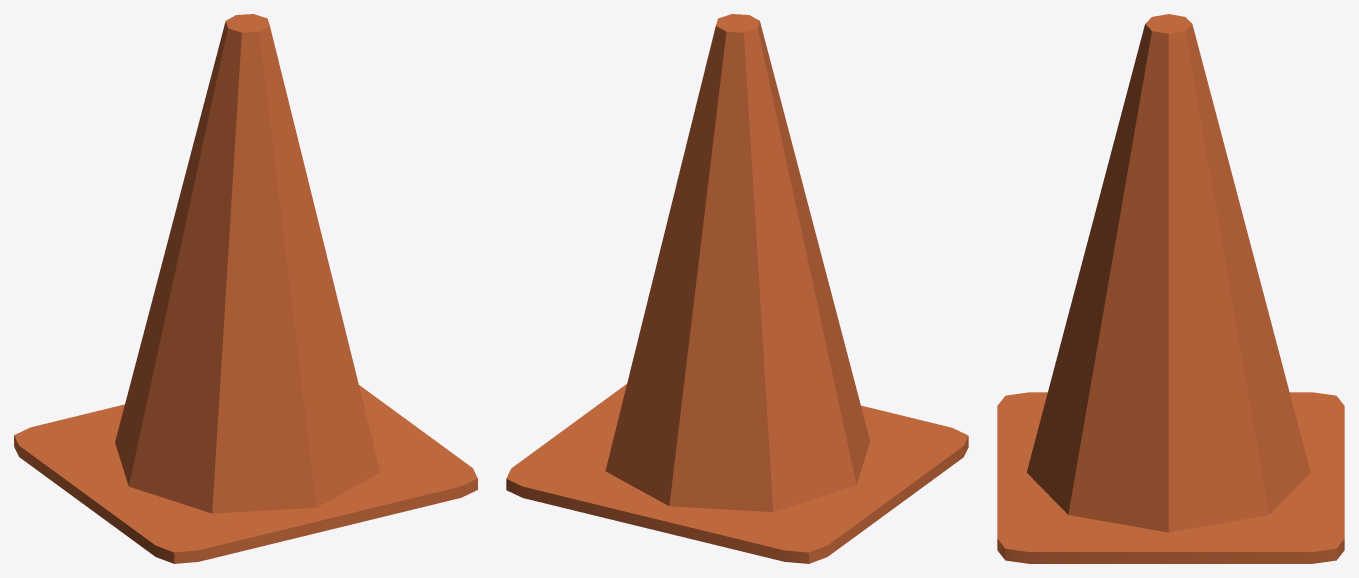
Rendered from SM_traffic_pylon.fbx.
3 renders of one model, left to right at view 1: azimuth 30°, elevation 25°; view 2: azimuth 150°, elevation 25°; view 3: azimuth 270°, elevation 25°, orthographic. The views are drawn at different scales.
Parts seen in each view (by area): view 1: Object087; view 2: Object087; view 3: Object087.
Part boxes in pixels (x1,y1,x2,y2): Object087: [14, 14, 477, 563]; Object087: [506, 14, 968, 563]; Object087: [997, 14, 1344, 563].
Bounding box in the file's own units: 19.02 × 17.46 × 25.53.
